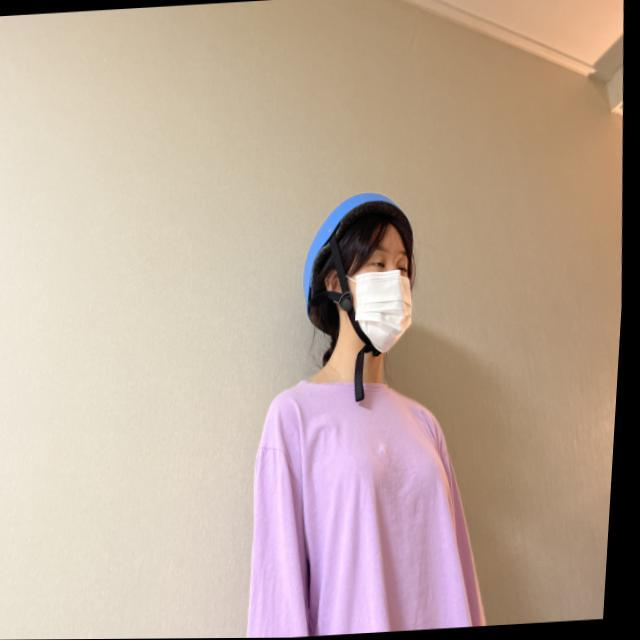Helmet: (301, 192, 420, 365)
